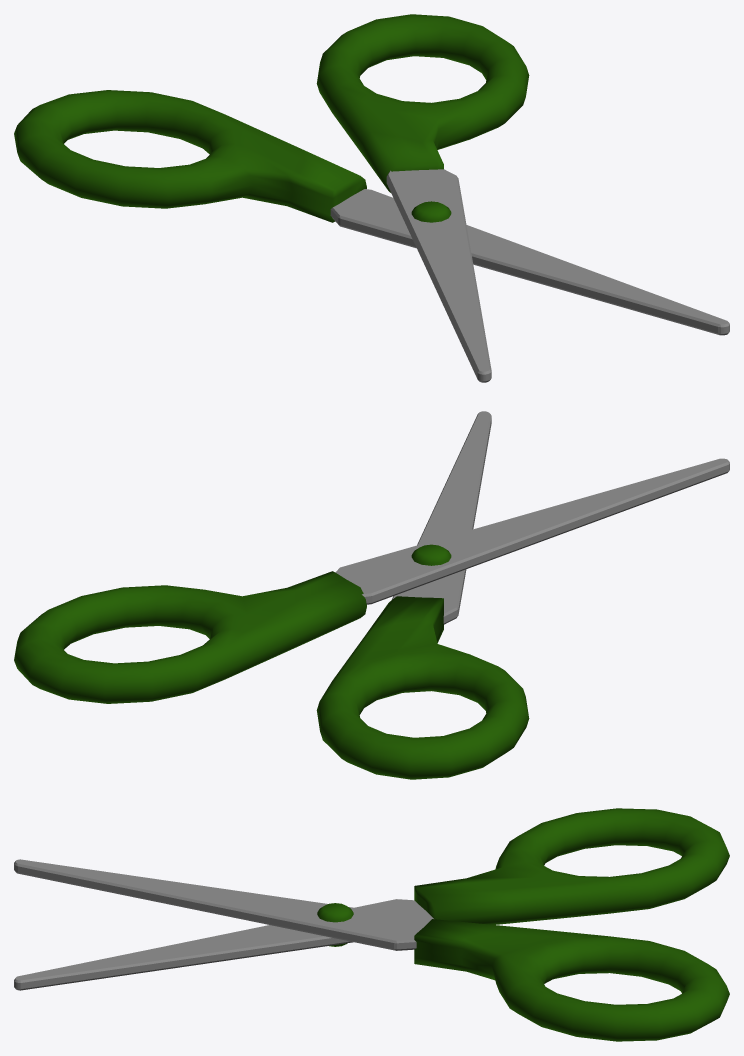
Rendered from Scissor.fbx.
3 views of the same model, one above another, from view 1: azimuth 30°, elevation 25°; view 2: azimuth 150°, elevation 25°; view 3: azimuth 270°, elevation 25° (orthographic). The views are drawn at different scales.
Visible parts, largest first — view 1: Handle, Blade, knob; view 2: Handle, Blade, knob; view 3: Handle, Blade, knob.
Part boxes in pixels (<box>): Handle: <box>14,14,529,222</box>; Blade: <box>330,169,729,382</box>; knob: <box>411,201,451,222</box>; Handle: <box>14,571,529,779</box>; Blade: <box>335,411,729,624</box>; knob: <box>411,544,451,565</box>; Handle: <box>414,808,729,1041</box>; Blade: <box>14,859,433,990</box>; knob: <box>317,903,353,946</box>.
Size of the model in its own units: 46.33 by 3.36 by 65.64.
